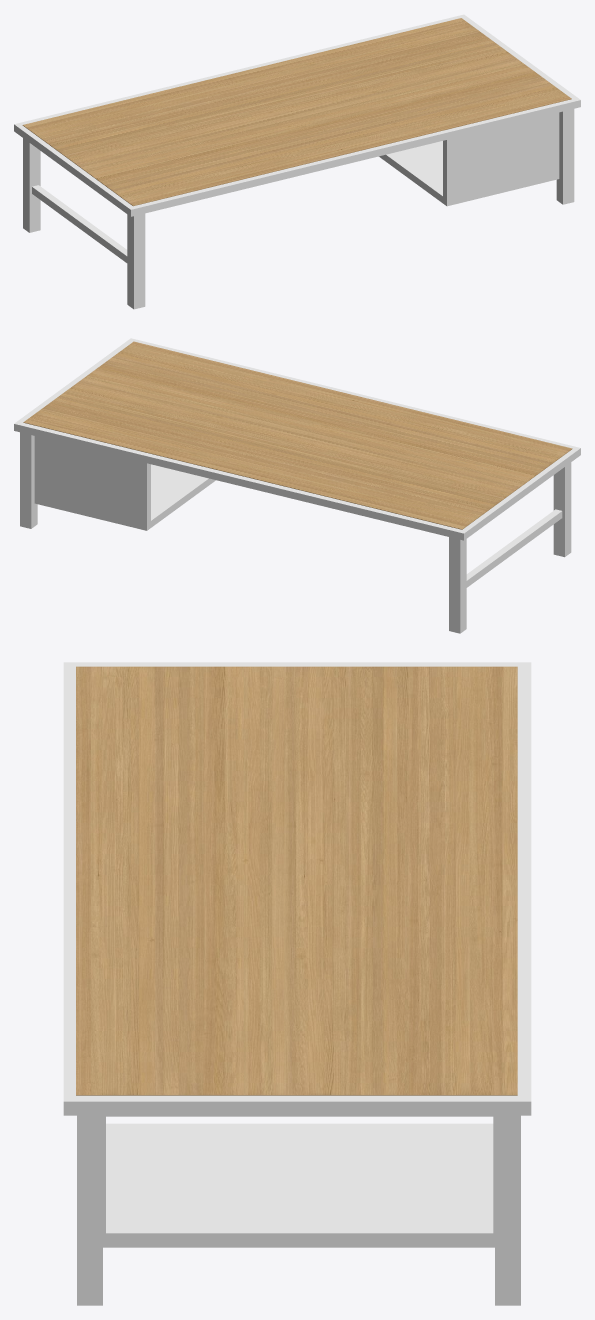
File: bed.obj
3 renders of one model, top to bottom at view 1: azimuth 30°, elevation 25°; view 2: azimuth 150°, elevation 25°; view 3: azimuth 270°, elevation 25°, orthographic. The views are drawn at different scales.
Parts seen in each view (by area): view 1: Rectangle01, Rectangle07, Rectangle05, Rectangle04, Rectangle06, Rectangle08; view 2: Rectangle01, Rectangle07, Rectangle06, Rectangle05, Rectangle03, Rectangle08; view 3: Rectangle01, Rectangle07, Rectangle03, Rectangle04.
Boxes of the visible parts, left/top/right/bottom form: Rectangle01: left=14, top=14, right=580, bottom=216; Rectangle07: left=379, top=112, right=559, bottom=206; Rectangle05: left=127, top=213, right=145, bottom=309; Rectangle04: left=556, top=109, right=574, bottom=204; Rectangle06: left=23, top=138, right=40, bottom=232; Rectangle08: left=32, top=185, right=127, bottom=262; Rectangle01: left=14, top=338, right=580, bottom=540; Rectangle07: left=34, top=436, right=215, bottom=530; Rectangle06: left=449, top=537, right=466, bottom=633; Rectangle05: left=553, top=462, right=571, bottom=557; Rectangle03: left=20, top=432, right=37, bottom=528; Rectangle08: left=466, top=509, right=562, bottom=587; Rectangle01: left=63, top=662, right=531, bottom=1115; Rectangle07: left=103, top=1115, right=494, bottom=1247; Rectangle03: left=495, top=1115, right=520, bottom=1305; Rectangle04: left=77, top=1115, right=102, bottom=1305.
Bounding box in the file's own units: 2000 × 442 × 900.
